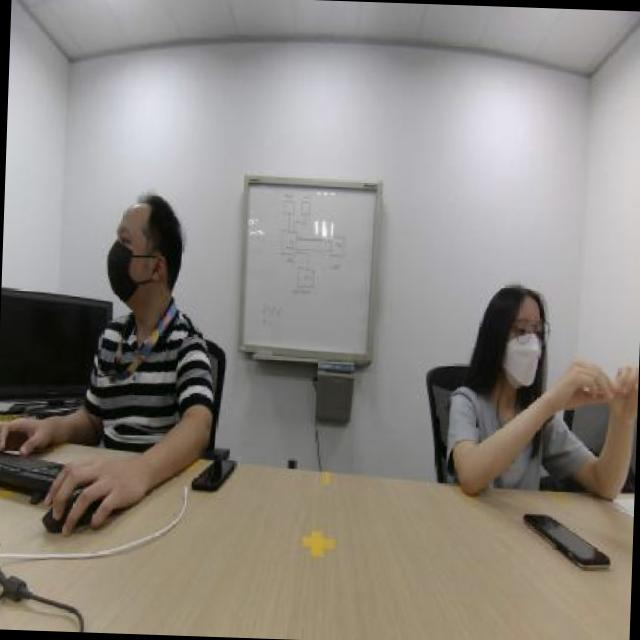Person: (427, 241, 628, 482), (93, 166, 228, 436)
